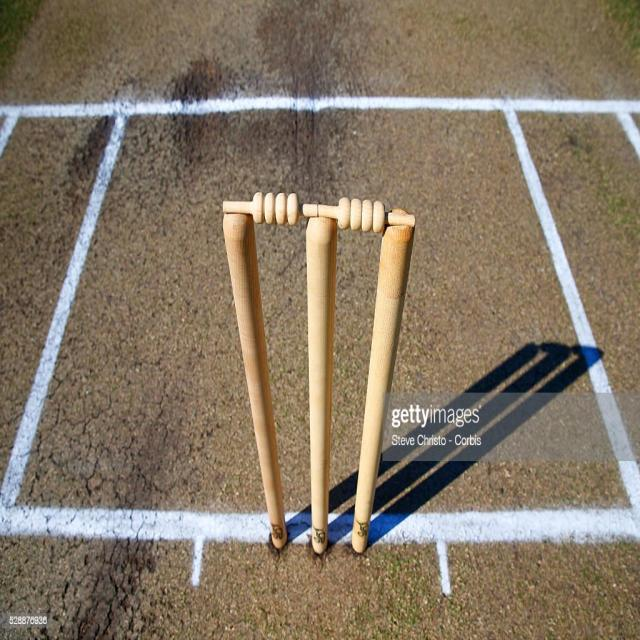stump: (221, 185, 423, 547)
